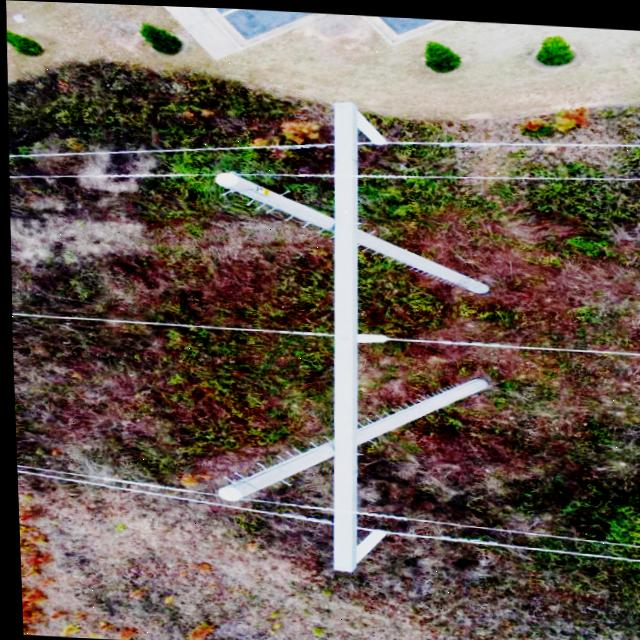poles: (214, 98, 486, 568)
wires: (348, 506, 640, 543), (355, 108, 640, 142), (9, 311, 335, 334), (13, 463, 212, 494), (354, 329, 640, 350), (7, 139, 336, 157), (433, 532, 640, 558), (238, 169, 640, 175), (232, 505, 330, 521), (8, 170, 218, 177), (21, 170, 219, 177), (241, 495, 331, 510), (428, 137, 640, 142), (242, 169, 428, 174), (145, 491, 221, 503), (268, 139, 335, 145), (100, 484, 141, 490)
